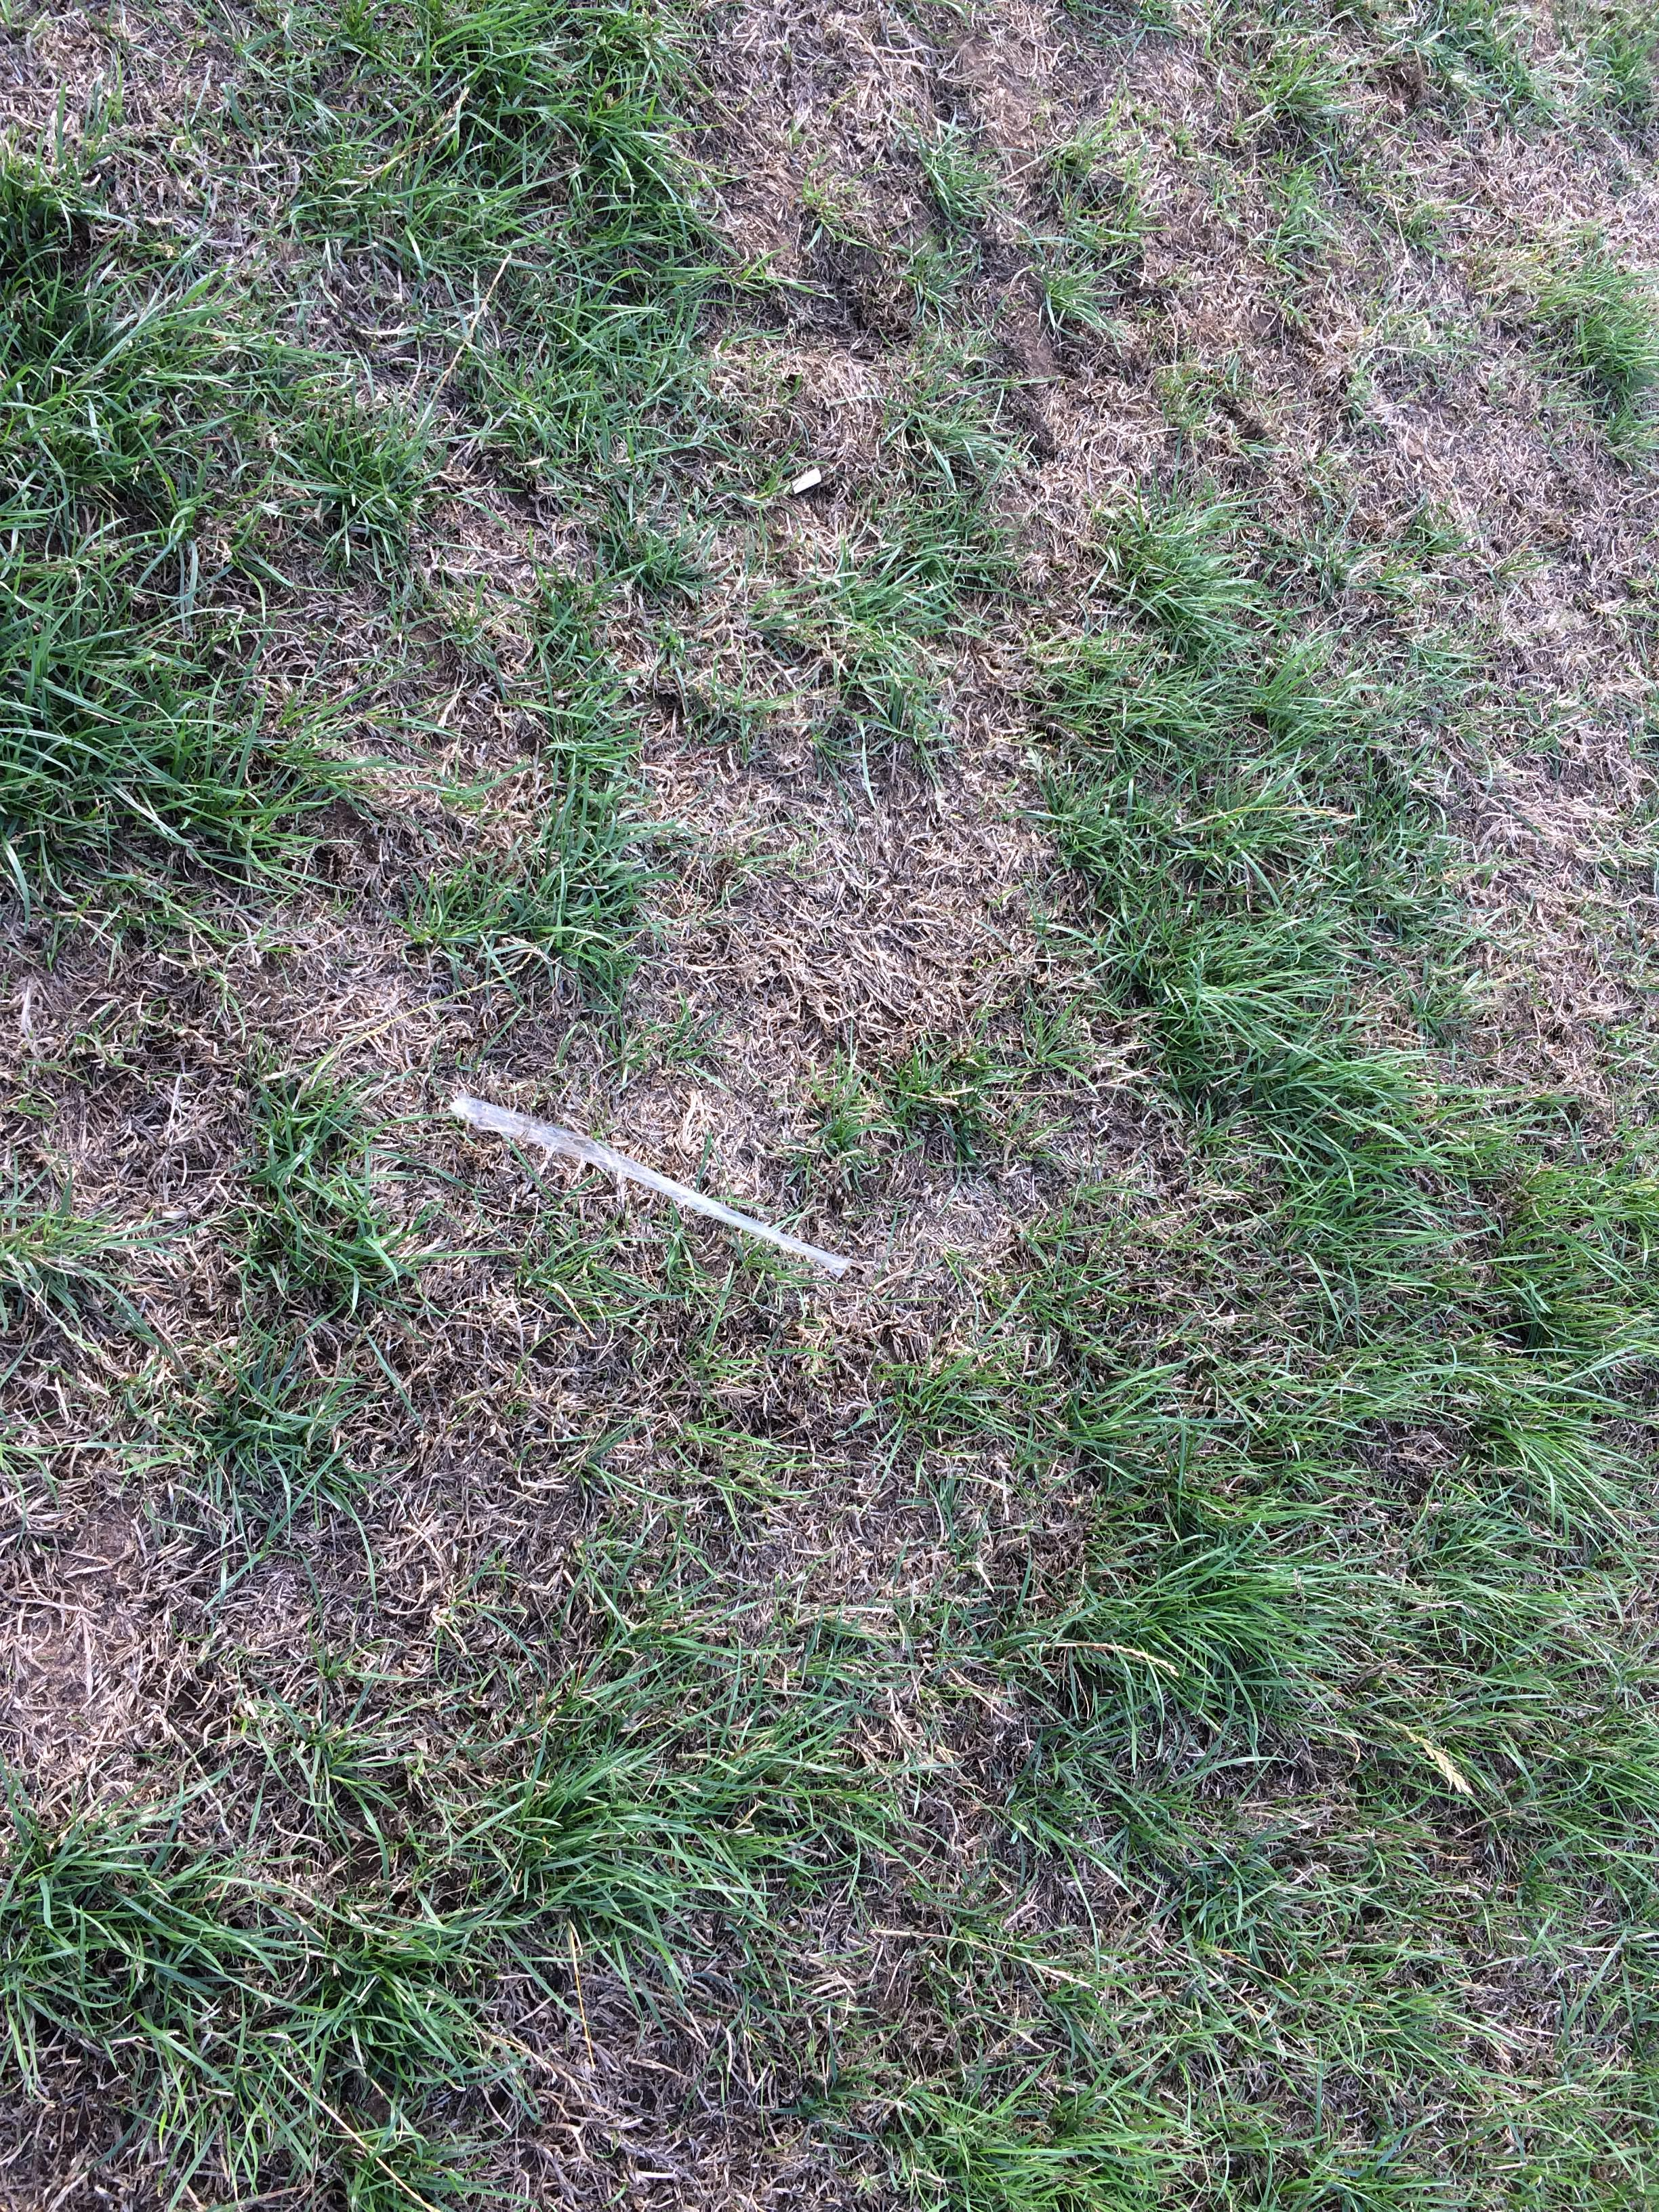Trash: (441, 1085, 870, 1282)
